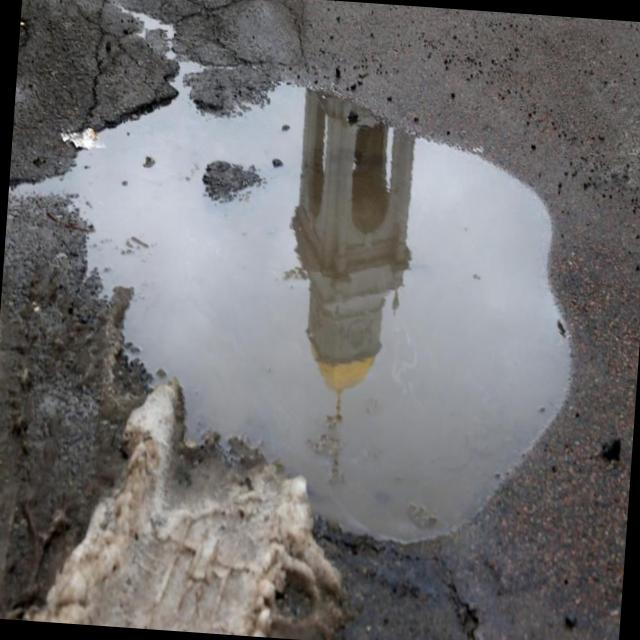Potholes: (8, 0, 603, 624)
